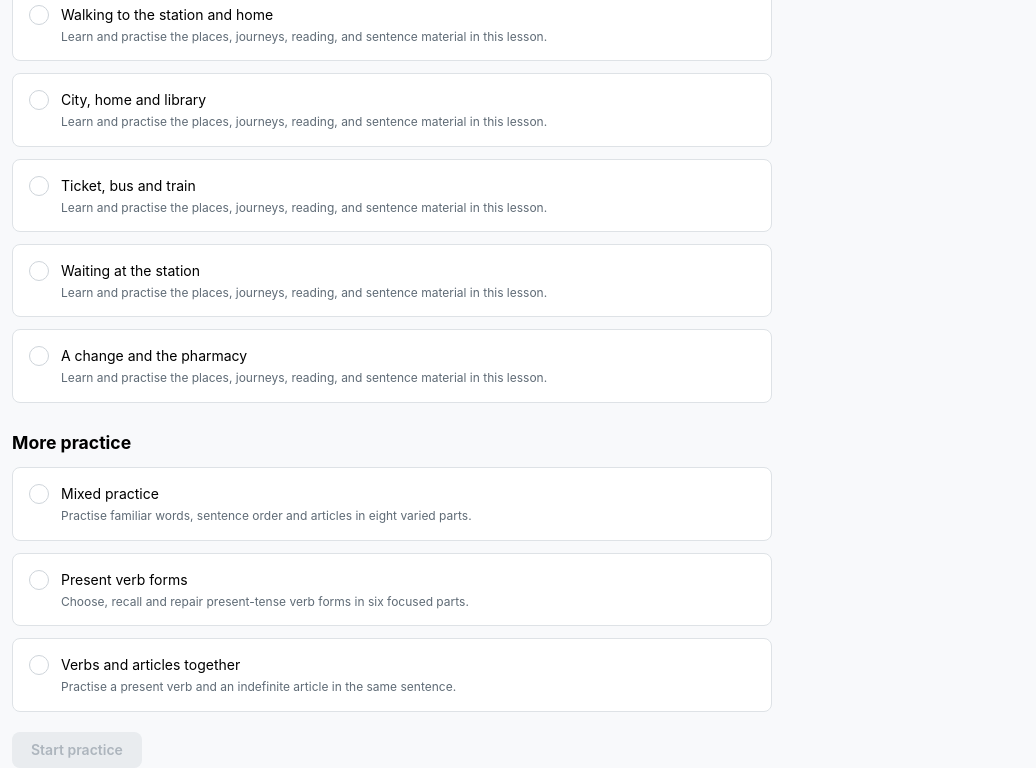
starts the four-part verbs-and-articles profile with its pinned identity
(page scrolled)
Step 1. Click the radio button labelled "Verbs and articles together" → (39, 665), box [29, 655, 49, 675]
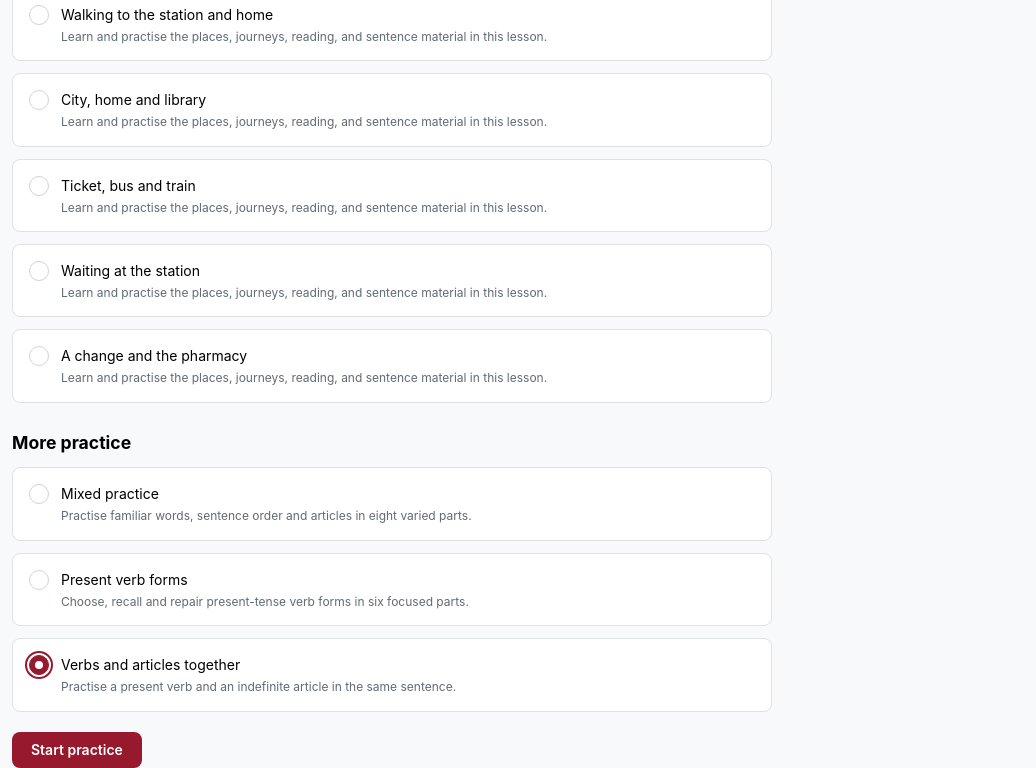
Step 2. Click the button "Start practice" → (77, 750), box [12, 732, 142, 767]
(page scrolled)
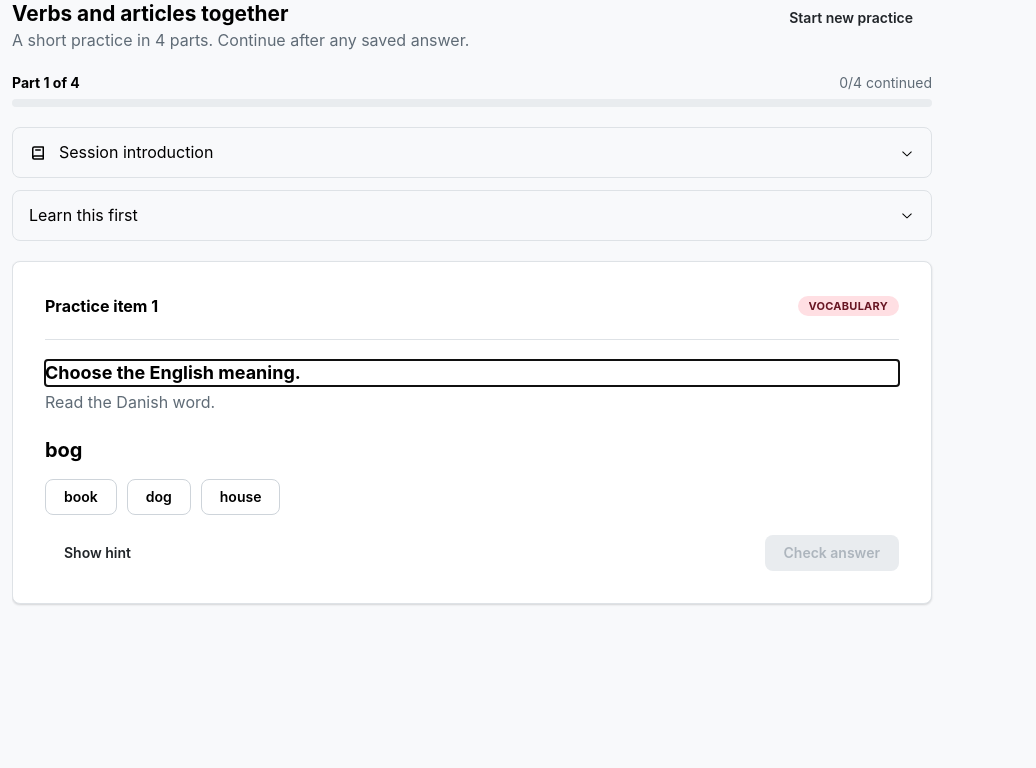
Result: the heading "Verbs and articles together" is shown at [12, 1, 288, 26]
